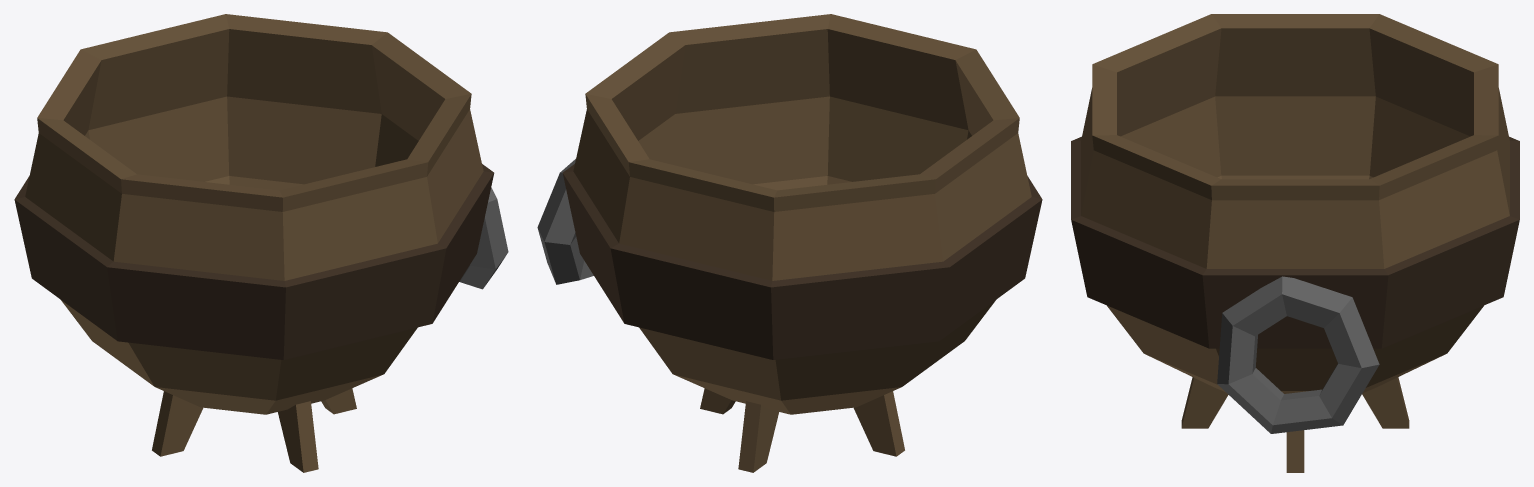
Rendered from Cauldron_5_Brown.fbx.
3 views of the same model, side by side, from view 1: azimuth 30°, elevation 25°; view 2: azimuth 150°, elevation 25°; view 3: azimuth 270°, elevation 25° (orthographic).
Parts seen in each view (by area): view 1: Cauldron_5_Brown_Part_1, Cauldron_5_Brown_Part_2, Cauldron_5_Brown_Part_3; view 2: Cauldron_5_Brown_Part_1, Cauldron_5_Brown_Part_2, Cauldron_5_Brown_Part_3; view 3: Cauldron_5_Brown_Part_1, Cauldron_5_Brown_Part_2, Cauldron_5_Brown_Part_3.
Part boxes in pixels (x1,y1,x2,y2): Cauldron_5_Brown_Part_1: [25, 14, 483, 472]; Cauldron_5_Brown_Part_2: [14, 164, 494, 359]; Cauldron_5_Brown_Part_3: [459, 187, 508, 289]; Cauldron_5_Brown_Part_1: [573, 14, 1031, 472]; Cauldron_5_Brown_Part_2: [562, 164, 1042, 359]; Cauldron_5_Brown_Part_3: [537, 159, 593, 284]; Cauldron_5_Brown_Part_1: [1081, 14, 1509, 472]; Cauldron_5_Brown_Part_2: [1071, 136, 1519, 348]; Cauldron_5_Brown_Part_3: [1217, 276, 1379, 433].
Bounding box in the file's own units: 226 × 162 × 203.
